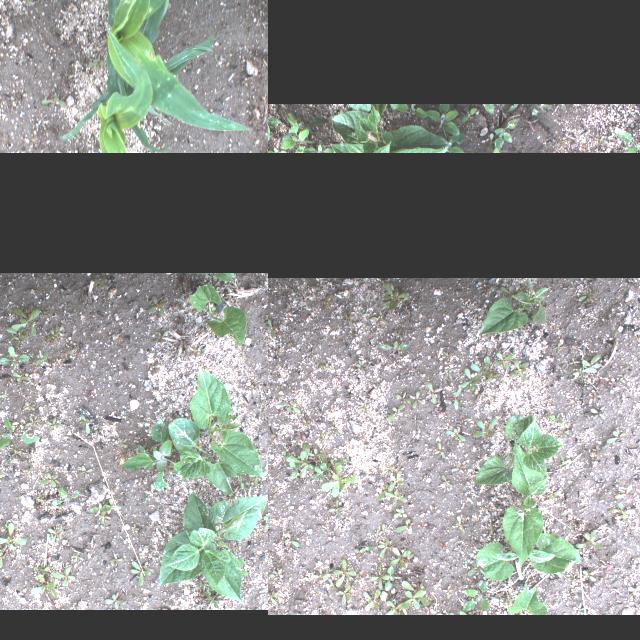crop: (106, 0, 250, 133), (59, 26, 189, 153), (157, 492, 268, 604), (190, 368, 260, 476), (472, 409, 564, 485), (320, 104, 449, 153), (502, 437, 546, 567), (168, 418, 240, 494), (476, 534, 578, 580), (480, 278, 550, 336), (188, 284, 246, 344), (506, 588, 546, 614), (213, 273, 235, 281)
weed: (122, 417, 188, 491), (312, 458, 356, 498), (279, 112, 314, 153), (0, 417, 37, 451), (284, 444, 320, 478), (426, 104, 458, 136), (10, 306, 40, 336), (494, 118, 518, 153), (462, 580, 488, 612), (431, 132, 470, 153), (29, 574, 59, 600), (49, 486, 79, 512), (613, 125, 640, 153), (0, 522, 26, 550), (399, 581, 428, 605), (384, 281, 408, 309), (0, 345, 28, 366), (333, 560, 355, 586), (470, 356, 490, 384), (128, 562, 150, 586), (609, 502, 635, 522), (301, 139, 337, 153), (389, 548, 411, 570), (39, 93, 69, 109), (268, 104, 280, 144), (401, 590, 425, 610), (473, 417, 497, 437), (390, 104, 428, 116), (204, 586, 223, 610), (574, 532, 602, 548), (146, 294, 166, 316), (52, 566, 74, 586), (580, 354, 600, 374), (424, 382, 442, 404), (368, 562, 382, 590), (493, 352, 517, 368), (509, 360, 528, 380), (363, 590, 381, 610), (378, 340, 408, 352), (77, 413, 93, 435), (387, 470, 403, 492), (384, 488, 406, 504), (376, 538, 392, 558), (328, 499, 344, 519), (381, 566, 393, 592), (460, 368, 474, 390), (384, 601, 406, 615), (248, 471, 266, 487), (46, 526, 62, 544), (452, 516, 468, 534), (408, 391, 424, 409), (386, 404, 404, 420), (284, 529, 300, 547), (280, 401, 302, 414), (104, 594, 124, 608), (40, 474, 60, 488), (337, 585, 351, 605), (310, 567, 330, 581), (44, 416, 61, 432), (448, 388, 460, 410), (86, 503, 112, 513), (605, 431, 625, 444), (394, 520, 412, 534), (446, 428, 464, 442), (5, 326, 23, 339), (461, 108, 477, 122), (590, 405, 606, 419), (11, 371, 29, 383), (614, 486, 632, 498), (108, 552, 122, 566), (106, 500, 120, 514), (78, 465, 92, 479), (34, 350, 48, 364), (14, 334, 28, 348), (269, 568, 283, 582), (152, 330, 168, 342), (588, 446, 604, 458), (433, 442, 445, 458), (394, 393, 410, 405), (135, 564, 153, 574), (578, 292, 596, 302), (44, 329, 56, 343), (94, 277, 108, 289), (582, 570, 596, 582), (572, 602, 586, 614), (25, 418, 41, 428), (268, 318, 276, 338), (354, 546, 374, 554), (306, 448, 322, 458), (114, 437, 128, 448), (100, 510, 110, 524), (148, 362, 158, 376), (451, 463, 465, 473), (268, 589, 276, 605), (442, 368, 453, 379), (263, 507, 268, 531), (70, 552, 82, 562), (550, 414, 562, 424), (441, 476, 451, 488), (39, 566, 50, 576), (189, 580, 199, 590), (204, 595, 214, 605), (239, 482, 249, 492), (53, 326, 63, 336), (22, 304, 32, 314), (10, 448, 20, 458), (393, 508, 403, 518), (380, 524, 390, 534), (22, 402, 34, 410), (0, 390, 8, 402), (627, 585, 639, 593), (130, 524, 138, 534), (201, 583, 209, 593), (51, 357, 60, 365), (0, 544, 5, 557), (36, 493, 44, 501), (0, 553, 4, 569), (68, 604, 78, 610), (240, 570, 248, 576), (94, 429, 98, 441), (22, 381, 34, 385), (238, 557, 242, 567), (0, 472, 5, 480), (4, 524, 8, 534), (12, 531, 18, 537), (152, 446, 154, 462), (44, 534, 51, 538)
